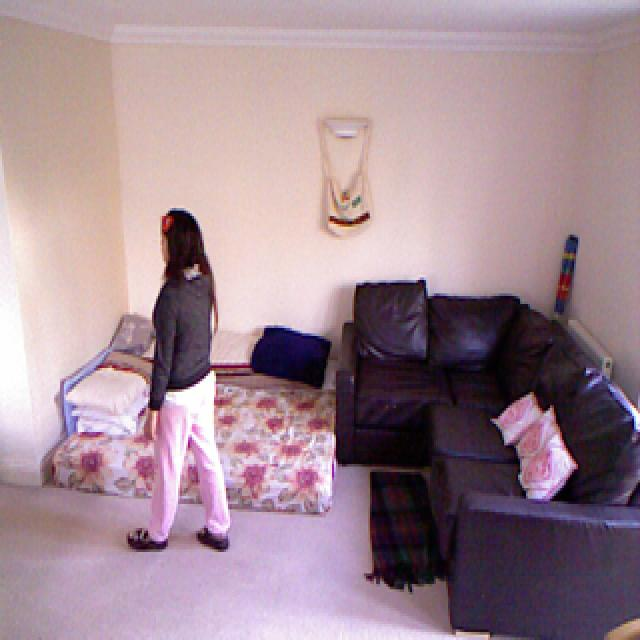stand: (136, 212, 244, 572)
